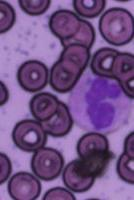N: (67, 73, 132, 134)
